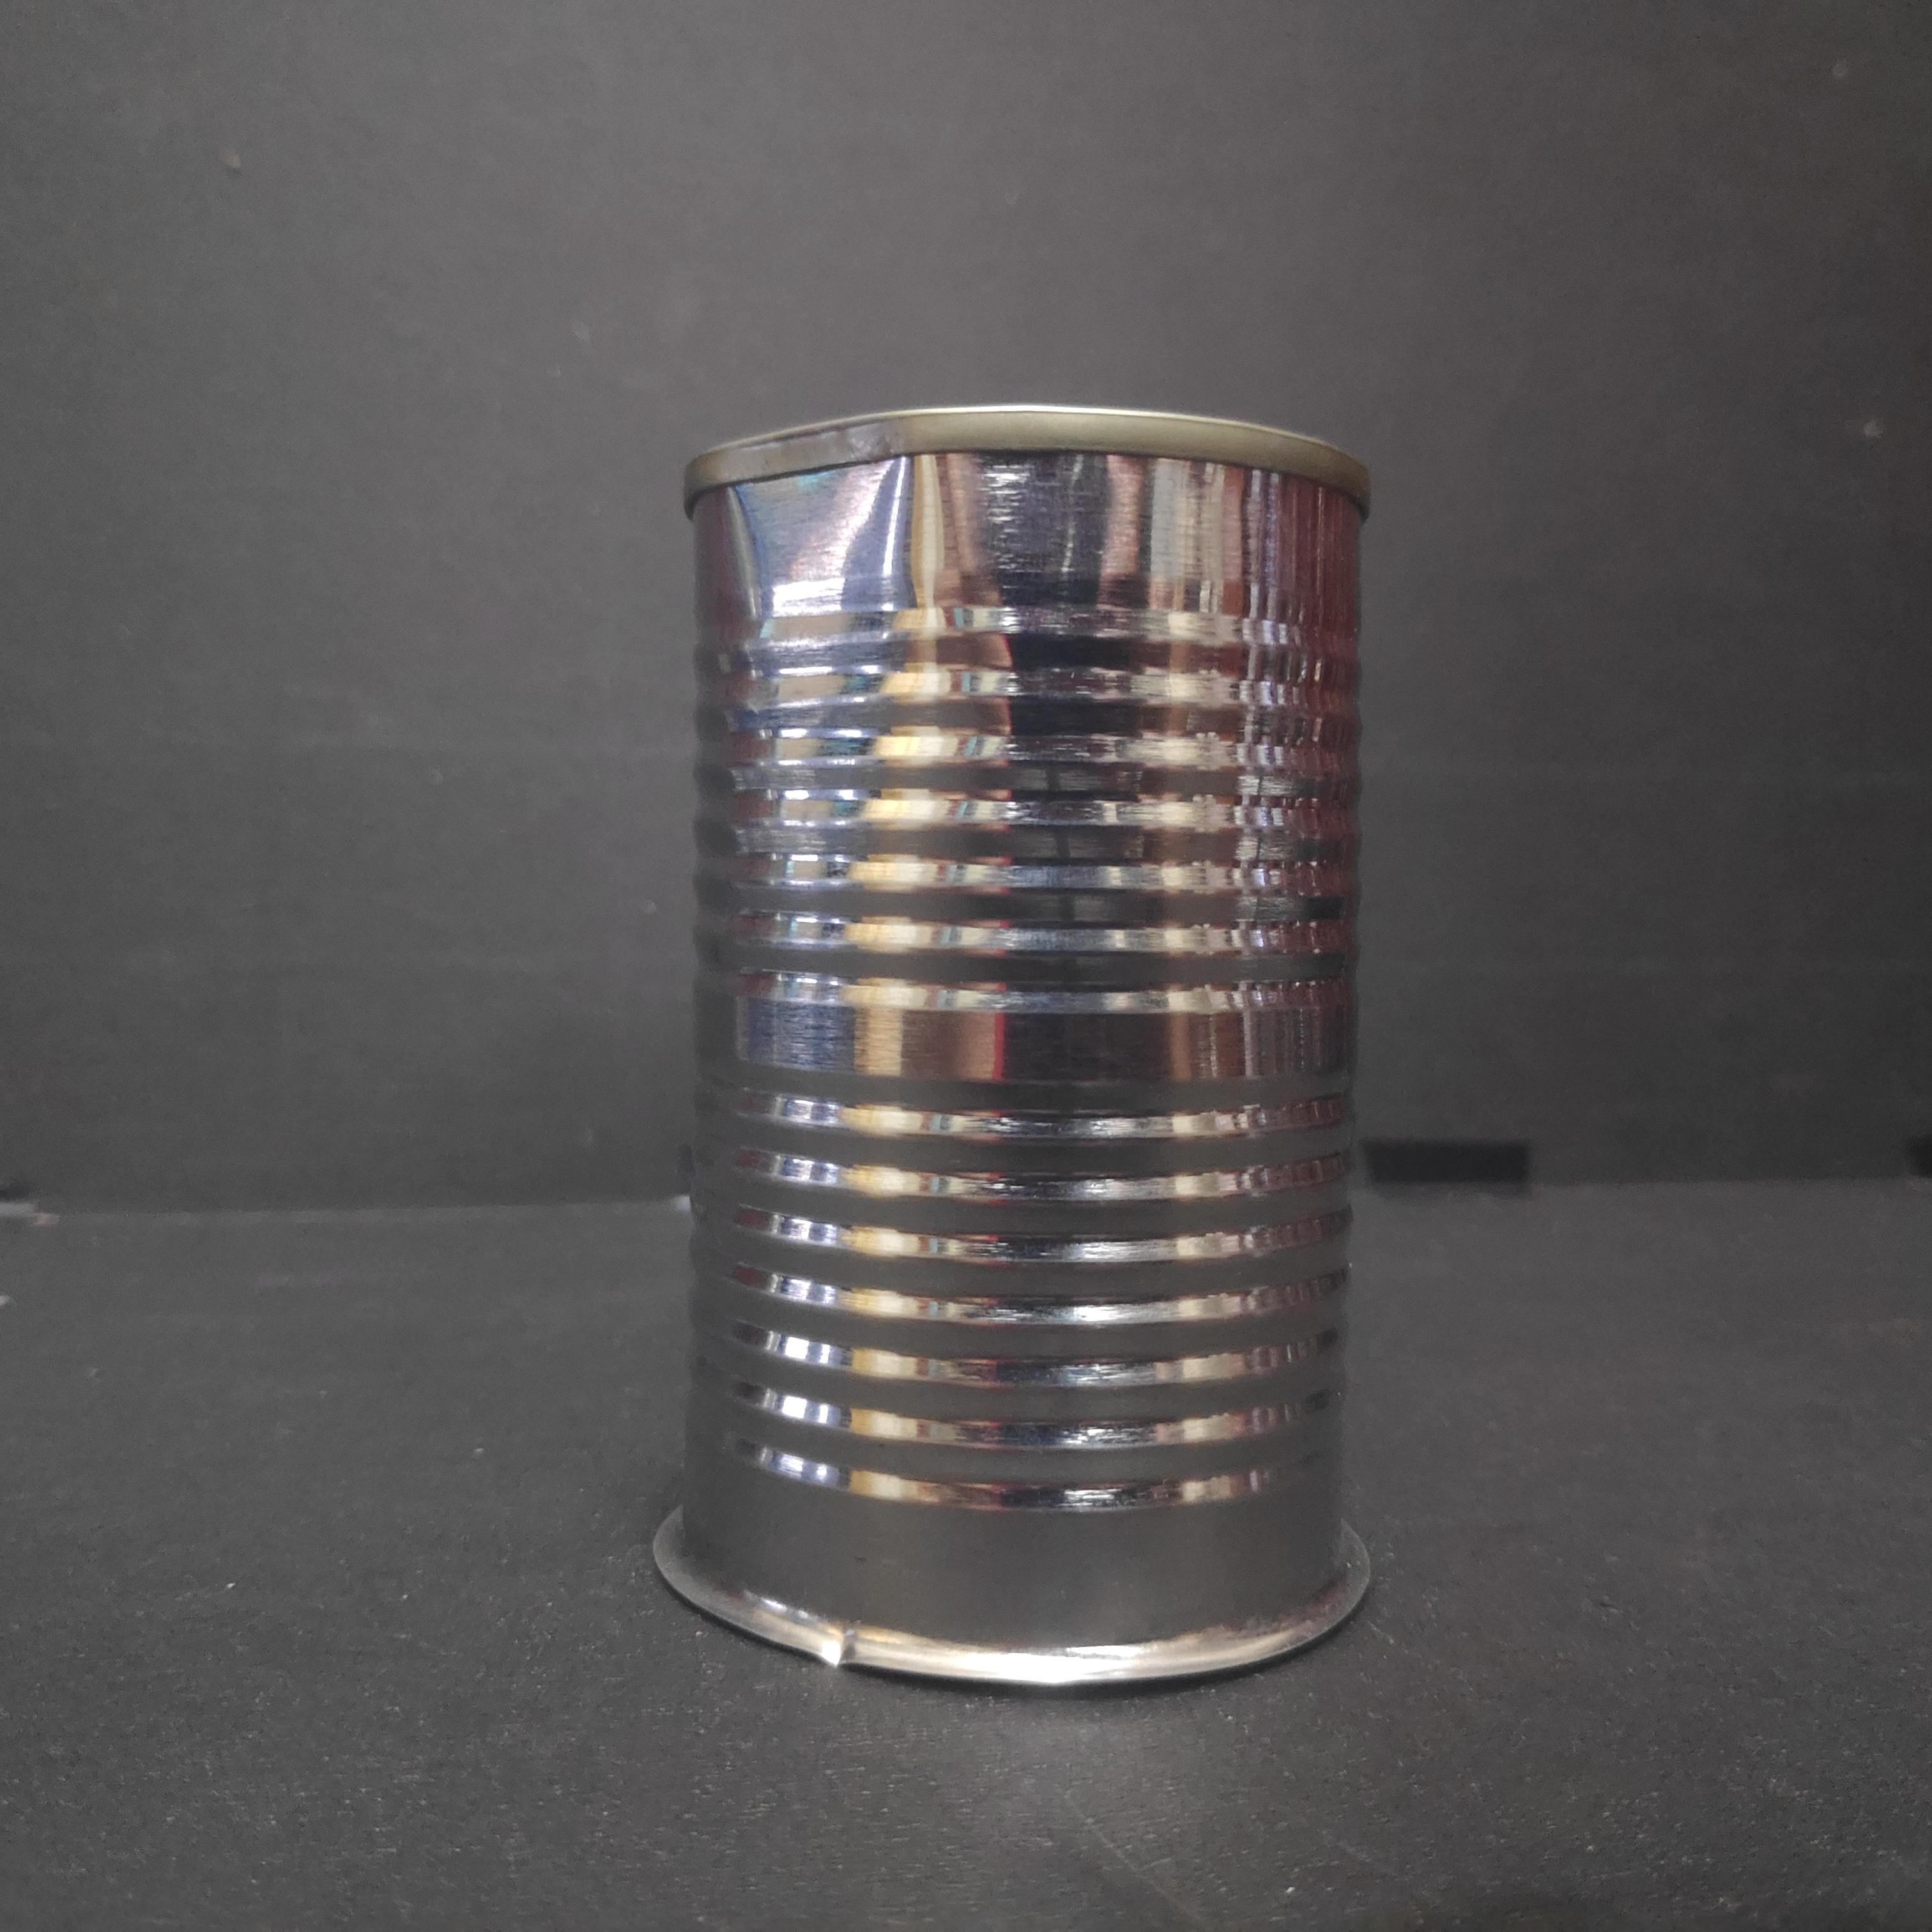Dented: (649, 370, 1399, 1706)
